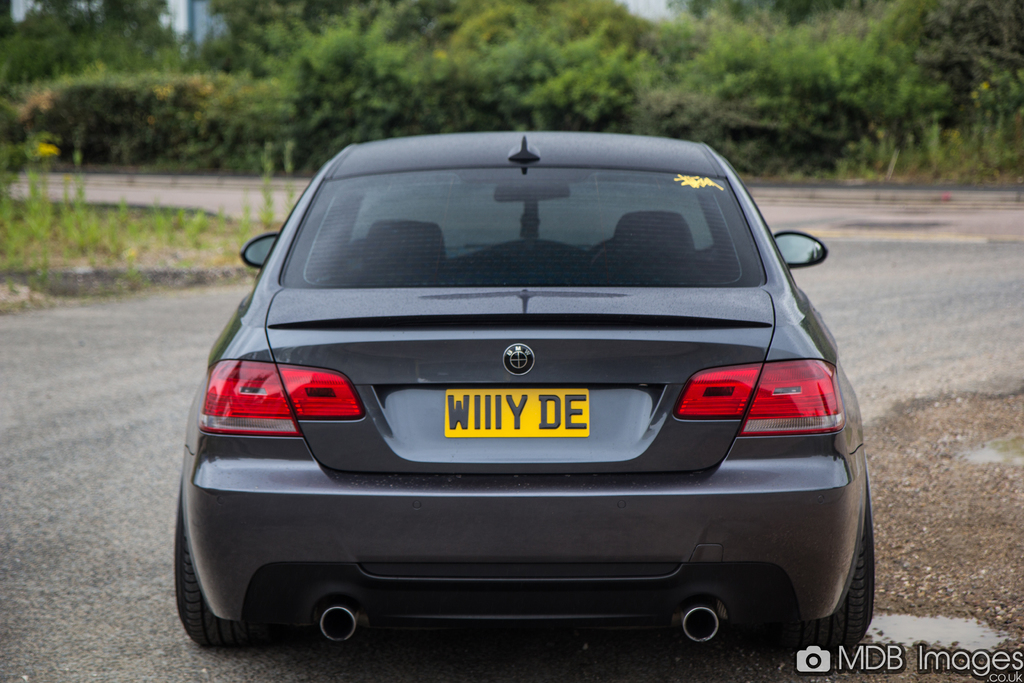license plate: (444, 390, 591, 440)
